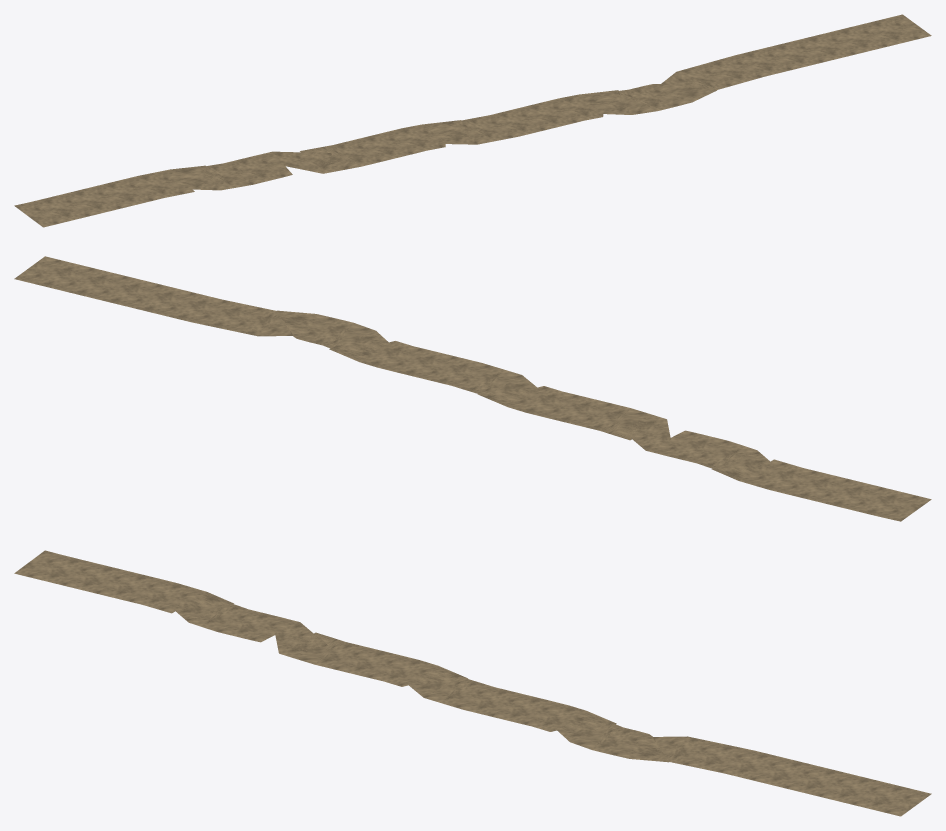
The model's file is RD-ROAD-002.obj.
3 views of the same model, one above another, from view 1: azimuth 30°, elevation 25°; view 2: azimuth 150°, elevation 25°; view 3: azimuth 330°, elevation 25° (orthographic). The views are drawn at different scales.
Parts seen in each view (by area): view 1: RD-ROAD-002; view 2: RD-ROAD-002; view 3: RD-ROAD-002.
Part boxes in pixels (box(x1,y1,x2,y2)): RD-ROAD-002: box(14, 14, 931, 227); RD-ROAD-002: box(14, 256, 931, 521); RD-ROAD-002: box(14, 550, 931, 816).
Bounding box in the file's own units: 67.97 × 0.0295 × 8.69.
Materials: 1 (1 with a texture image).
